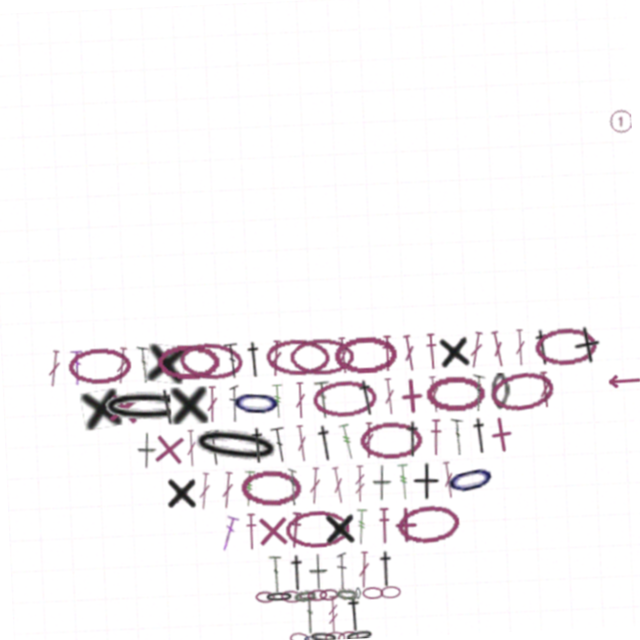chain: (182, 417, 279, 468), (95, 379, 189, 420), (485, 378, 552, 422), (176, 335, 242, 378), (263, 336, 330, 377), (387, 508, 451, 549), (435, 463, 492, 508), (232, 466, 296, 506), (154, 337, 218, 376), (309, 381, 374, 419), (354, 424, 418, 462), (288, 338, 352, 376), (276, 510, 340, 547), (533, 338, 595, 376), (66, 338, 129, 375), (332, 338, 395, 375), (422, 381, 483, 419), (226, 379, 280, 420), (487, 381, 507, 418), (252, 589, 282, 601), (281, 588, 304, 602), (323, 588, 346, 602), (294, 630, 325, 640), (330, 630, 361, 640), (268, 588, 290, 602), (243, 588, 263, 601), (350, 589, 371, 601), (368, 589, 389, 601), (295, 589, 315, 601), (307, 589, 327, 601), (275, 630, 296, 640), (323, 631, 345, 640), (311, 632, 331, 640), (289, 632, 305, 640), (343, 589, 349, 601)
double: (208, 510, 231, 548), (265, 424, 284, 462), (465, 338, 484, 376), (200, 424, 218, 462), (311, 381, 329, 419), (222, 338, 240, 376), (44, 338, 61, 376), (488, 338, 505, 376), (189, 467, 205, 505), (212, 467, 228, 505), (323, 467, 339, 505), (112, 338, 128, 376), (400, 338, 416, 376), (289, 596, 305, 633), (467, 381, 483, 418), (300, 467, 315, 504), (434, 467, 449, 504), (289, 424, 304, 461), (267, 338, 282, 375), (257, 553, 271, 590), (346, 553, 360, 590), (379, 381, 393, 418), (424, 381, 438, 418), (535, 381, 549, 418), (135, 338, 149, 375), (335, 338, 349, 375), (357, 424, 370, 461), (446, 424, 459, 461), (202, 381, 215, 418), (180, 424, 192, 461), (291, 381, 303, 418), (69, 338, 81, 375), (513, 338, 525, 375), (326, 553, 336, 590), (226, 381, 236, 418), (281, 467, 290, 504)
half_double: (351, 380, 376, 419), (308, 424, 332, 462), (152, 381, 176, 419), (396, 424, 419, 462), (530, 338, 553, 376), (275, 553, 297, 590), (364, 553, 386, 590), (464, 424, 486, 461), (331, 596, 352, 633), (242, 424, 263, 461), (242, 338, 263, 375), (277, 510, 295, 548), (423, 424, 438, 461), (423, 338, 438, 375), (235, 510, 249, 547), (368, 510, 382, 547), (379, 338, 393, 375)
noise: (616, 121, 640, 148), (603, 387, 638, 401)
single: (143, 336, 185, 378), (143, 422, 184, 463), (476, 422, 517, 463), (77, 379, 118, 420), (99, 379, 140, 420), (389, 381, 427, 419), (245, 510, 282, 547), (378, 510, 415, 547), (167, 381, 204, 418), (435, 338, 471, 376), (157, 467, 192, 505), (569, 337, 602, 377), (314, 510, 348, 547), (404, 467, 433, 505), (131, 424, 152, 462), (365, 467, 385, 504), (298, 553, 317, 590)
treble: (333, 424, 351, 462), (345, 510, 360, 547), (234, 467, 249, 504), (346, 467, 359, 504), (390, 467, 403, 504), (268, 381, 281, 418), (314, 596, 326, 633)
